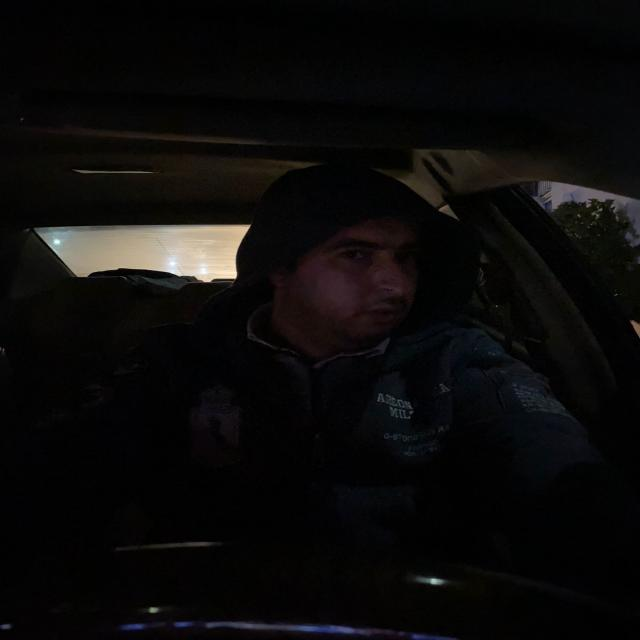person: (242, 155, 464, 360)
